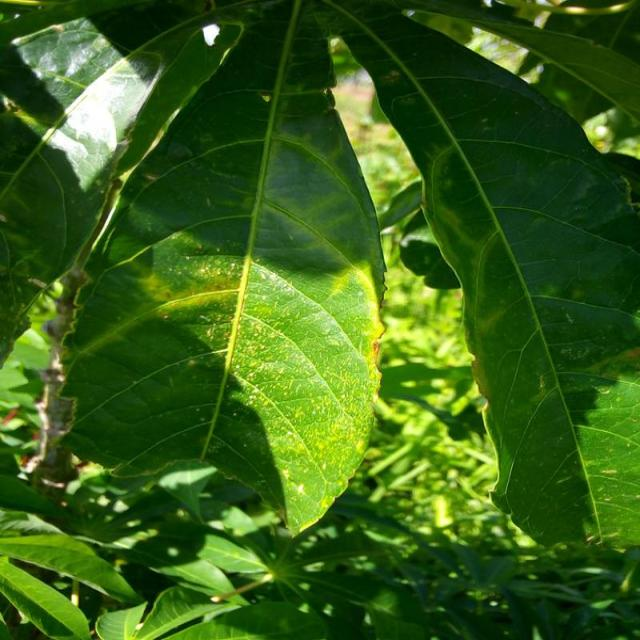cassava leaf: (54, 5, 388, 538), (329, 2, 638, 552)
